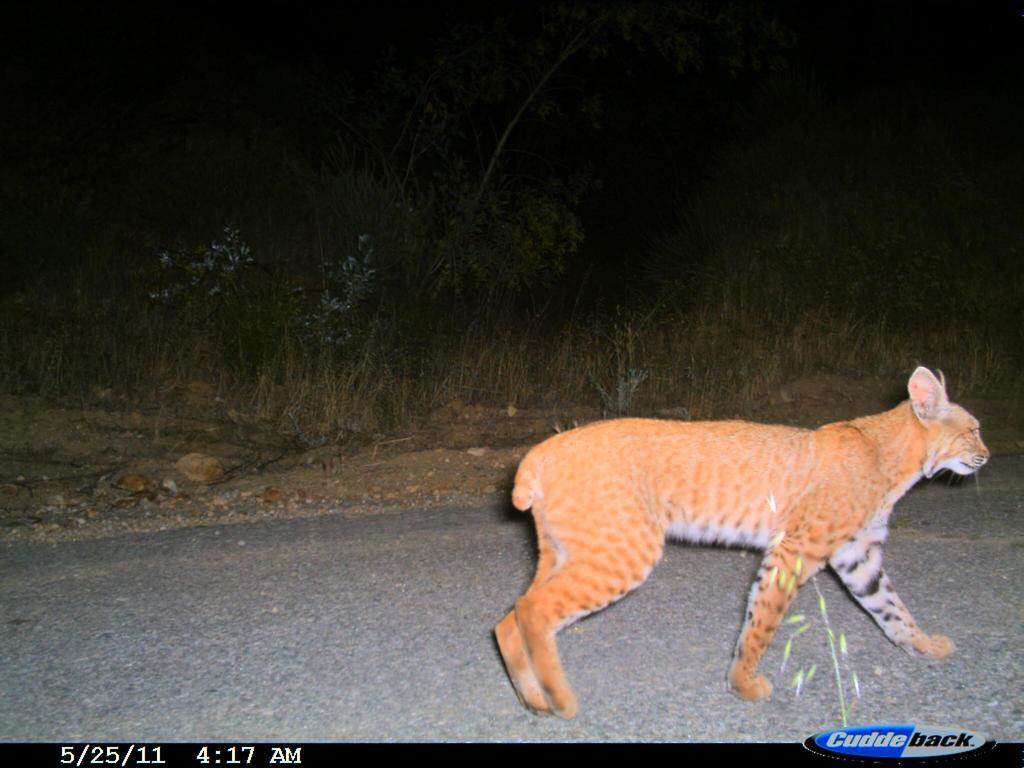bobcat: (477, 335, 1009, 719)
